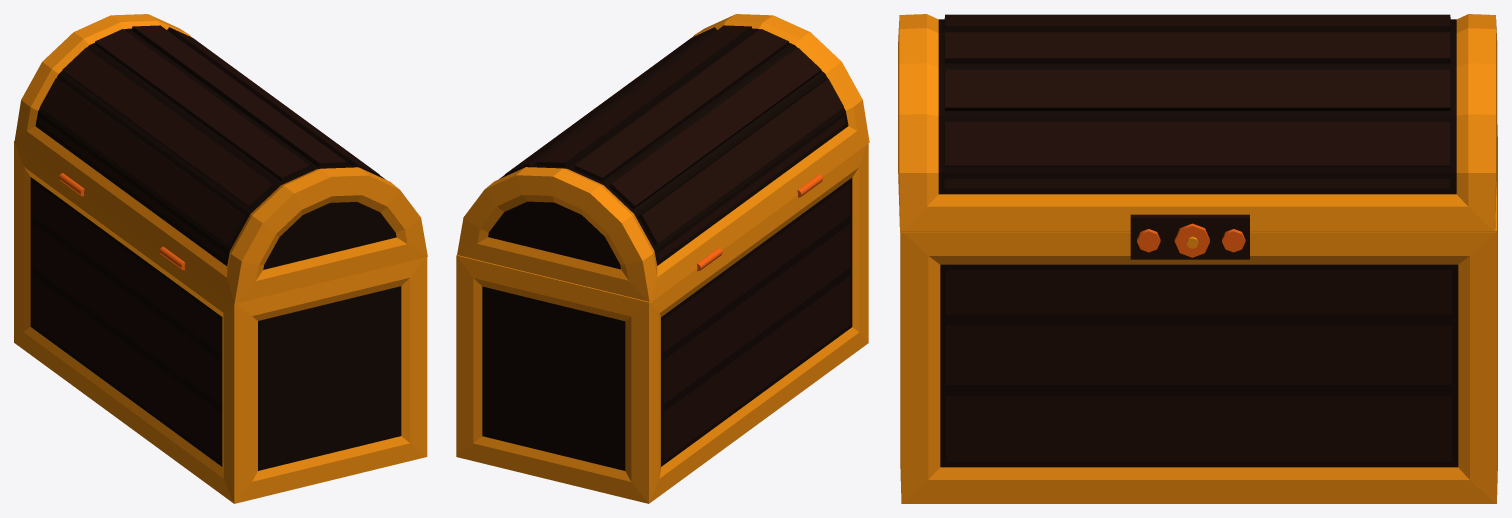
Rendered from Closed Treasure Chest 002.FBX.
3 renders of one model, left to right at view 1: azimuth 30°, elevation 25°; view 2: azimuth 150°, elevation 25°; view 3: azimuth 270°, elevation 25°, orthographic. The views are drawn at different scales.
Visible parts, largest first — view 1: Closed Treasure Chest; view 2: Closed Treasure Chest; view 3: Closed Treasure Chest, Lock Mechanism, Lock002.
Part boxes in pixels (box(x1,y1,x2,y2)): Closed Treasure Chest: box(14, 14, 427, 503); Closed Treasure Chest: box(456, 14, 869, 503); Closed Treasure Chest: box(898, 14, 1497, 503); Lock Mechanism: box(1130, 214, 1249, 259); Lock002: box(1174, 223, 1209, 257).
Size of the model in its own units: 0.5463 by 0.7767 by 1.02.
